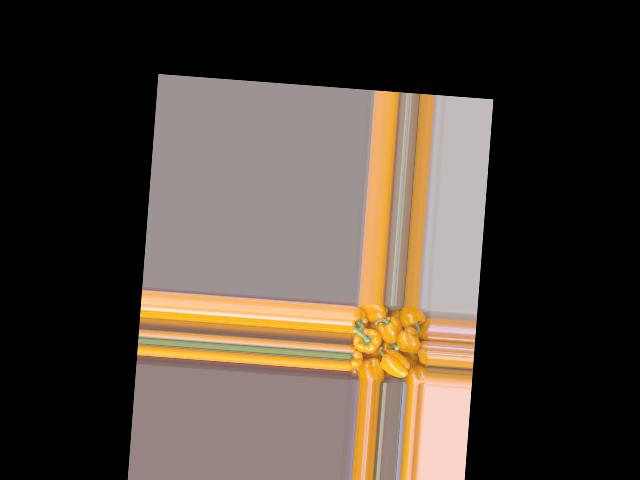bell_pepper: (412, 314, 431, 345)
